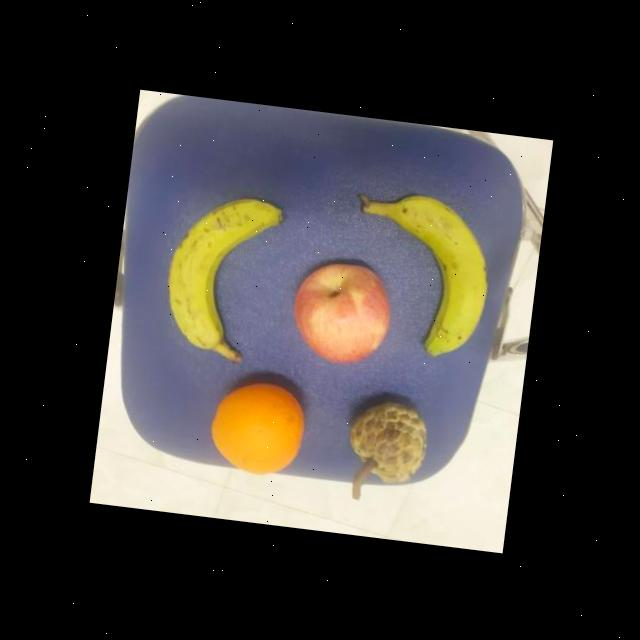Sakya fruit: (339, 388, 433, 489)
apple: (286, 251, 396, 369)
banana: (340, 185, 498, 362), (152, 187, 284, 365)
orange: (202, 372, 310, 481)
